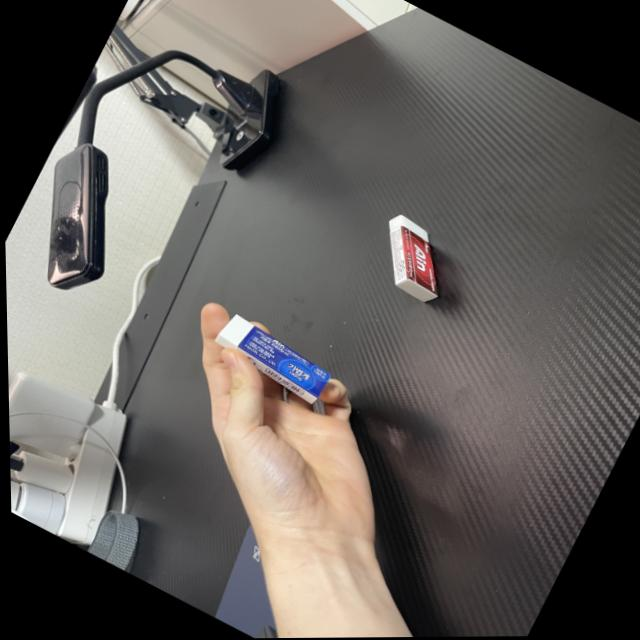blue: (197, 302, 344, 415)
red: (351, 201, 473, 315)
